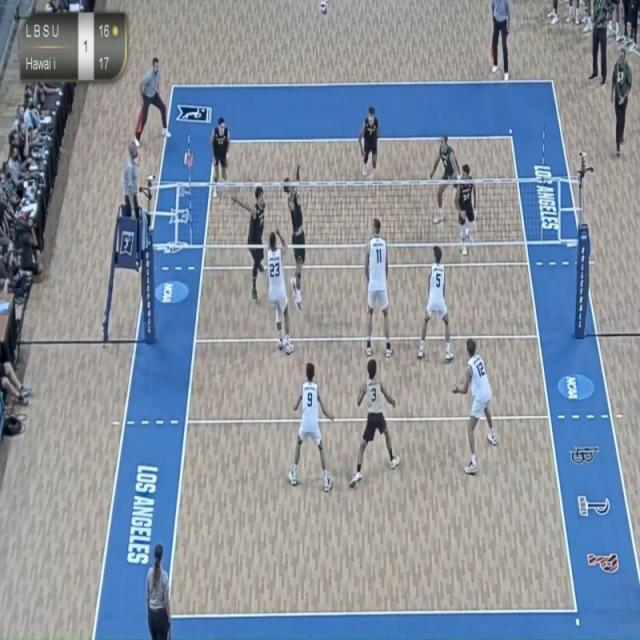volleyball: (317, 0, 331, 23)
